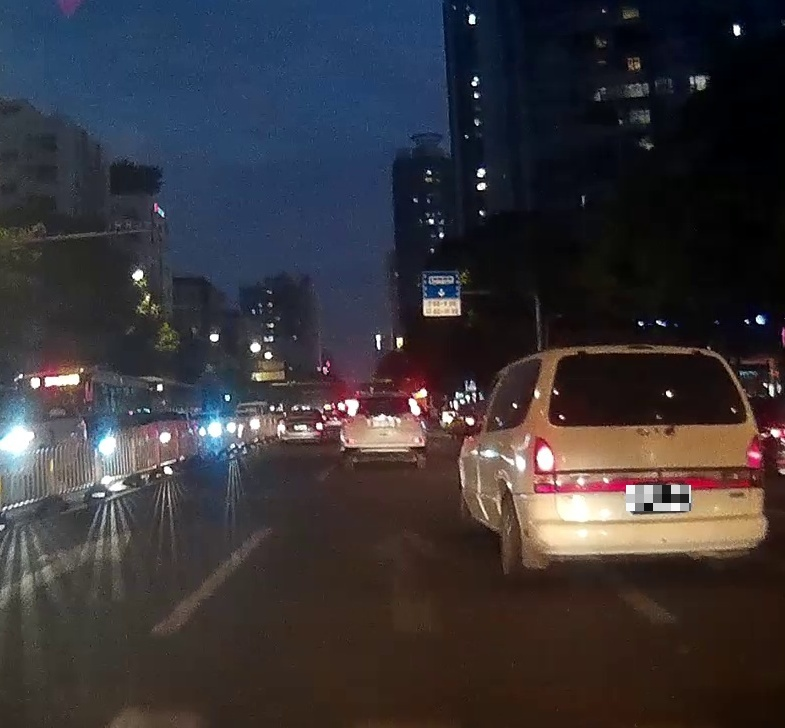L_light: (533, 436, 556, 493), (345, 399, 359, 422)
R_light: (746, 433, 764, 488), (408, 398, 422, 421)
T_light: (627, 352, 656, 360), (375, 396, 389, 401)
night-left: (532, 345, 768, 575)
night-no: (340, 392, 426, 469)
plate_1: (626, 485, 691, 511)
